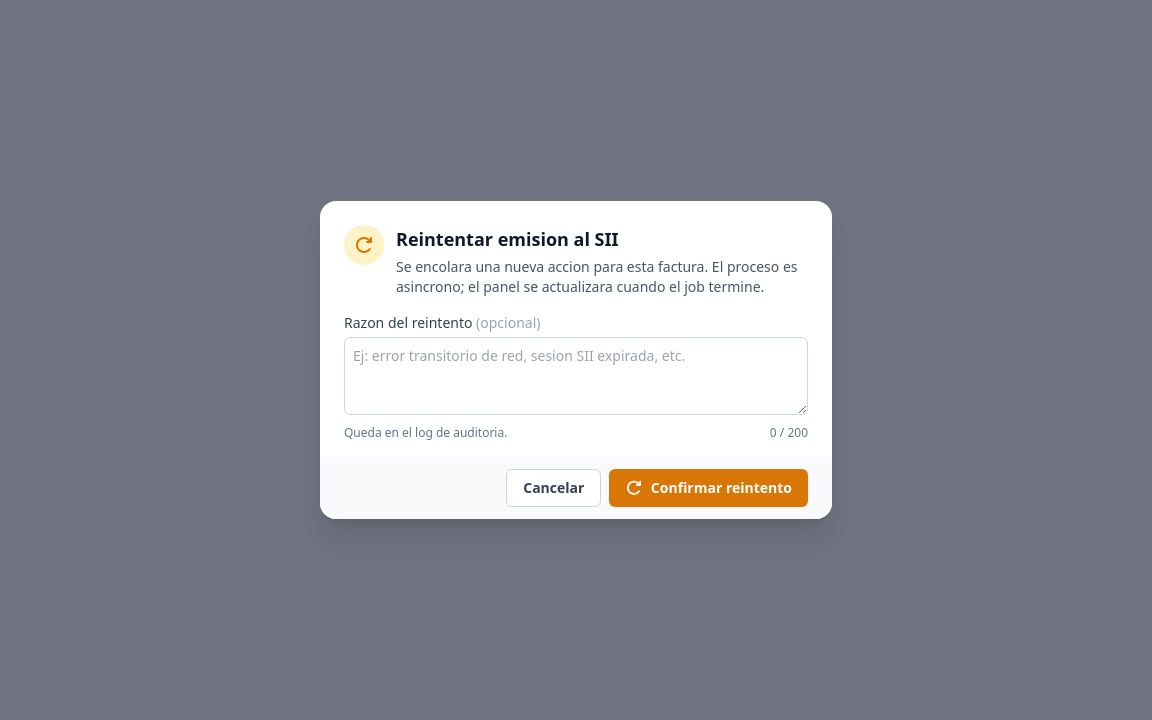
Test: ModalReintentarSii › 422 muestra mensaje inline y NO cierra el modal
Click the button with test id "btn-confirmar-reintento" at [709, 488], box left=609, top=469, right=808, bottom=507
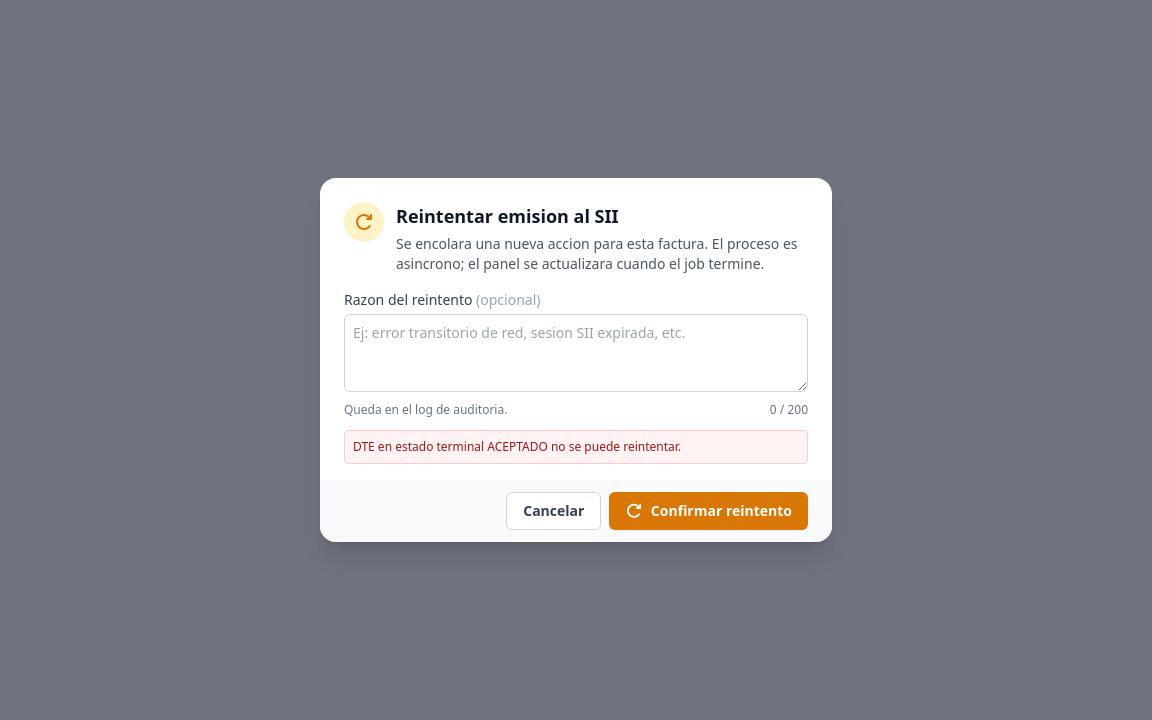
Check: the text with test id "reintentar-sii-error-inline" shows "ACEPTADO", box left=353, top=438, right=681, bottom=455
